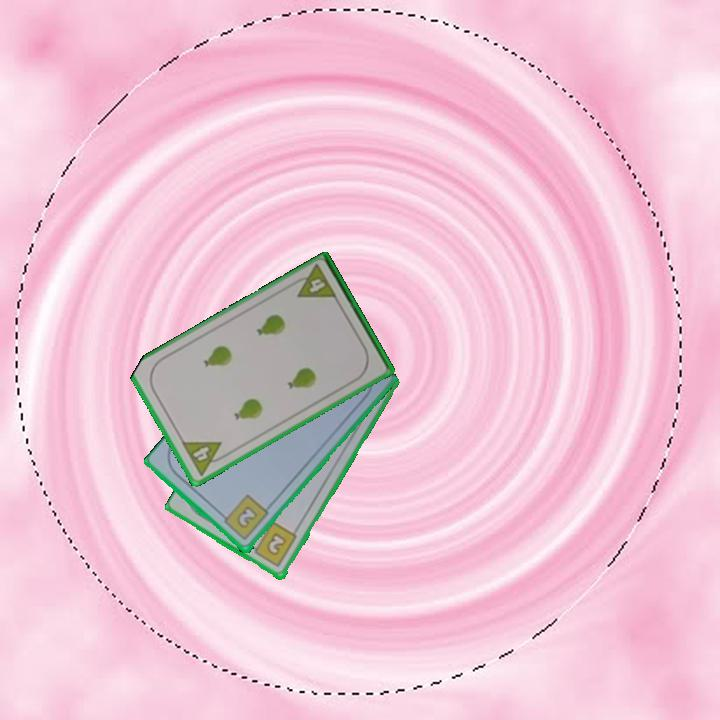2b: (246, 519, 300, 570), (217, 492, 271, 543)
4p: (178, 438, 231, 479), (288, 262, 340, 302)
